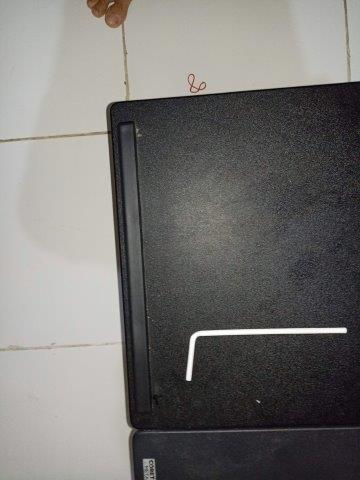karet: (188, 73, 207, 92)
sedotan: (186, 328, 347, 381)
